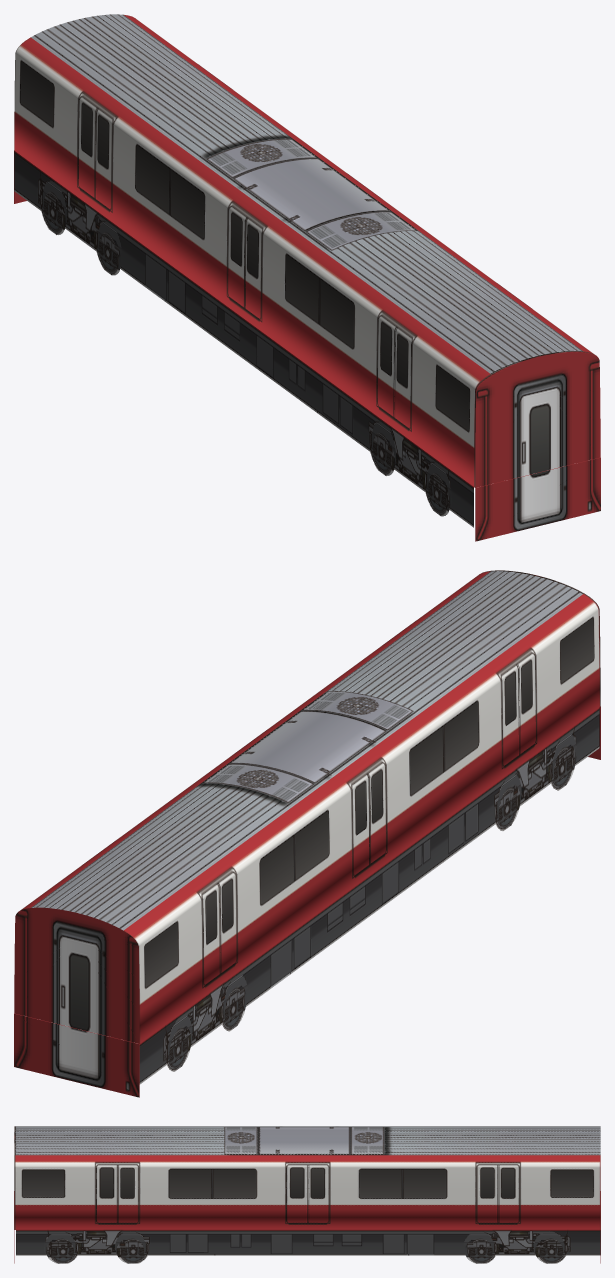
File: car3.glb
3 views of the same model, one above another, from view 1: azimuth 30°, elevation 25°; view 2: azimuth 150°, elevation 25°; view 3: azimuth 270°, elevation 25° (orthographic). The views are drawn at different scales.
Parts seen in each view (by area): view 1: keikyu-600-car3; view 2: keikyu-600-car3; view 3: keikyu-600-car3.
Part boxes in pixels (x1=…): keikyu-600-car3: x1=14, y1=14, x2=600, y2=541; keikyu-600-car3: x1=14, y1=570, x2=600, y2=1097; keikyu-600-car3: x1=14, y1=1126, x2=600, y2=1263.
Bounding box in the file's own units: 2.83 × 3.64 × 18.03.
Materials: 9 (8 with a texture image).
